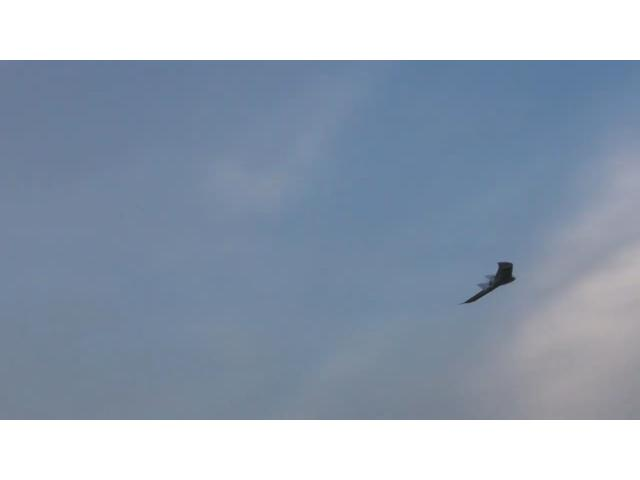Anti-Drone: (458, 262, 516, 306)
